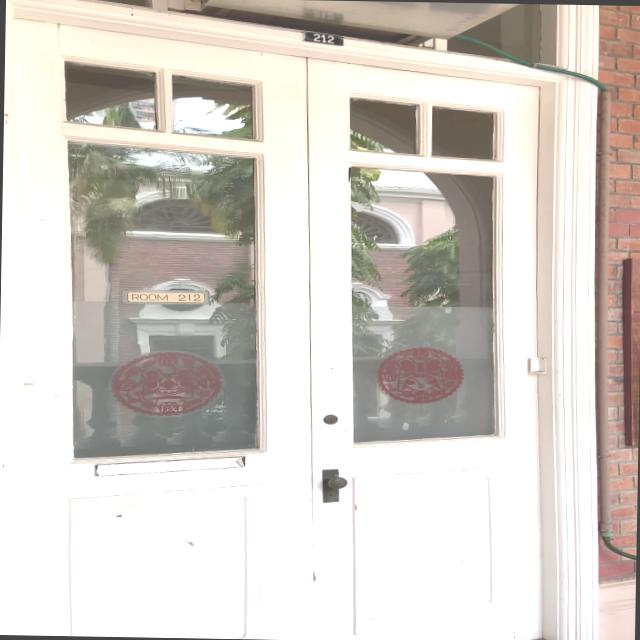room212: (290, 23, 344, 49)
room212Window: (116, 284, 211, 304)
